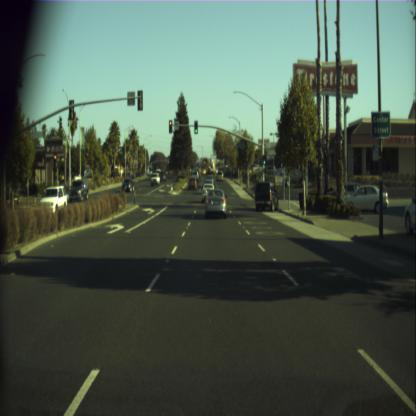Green: (194, 119, 198, 134), (262, 154, 265, 166)
RedLeft: (168, 118, 172, 134)
